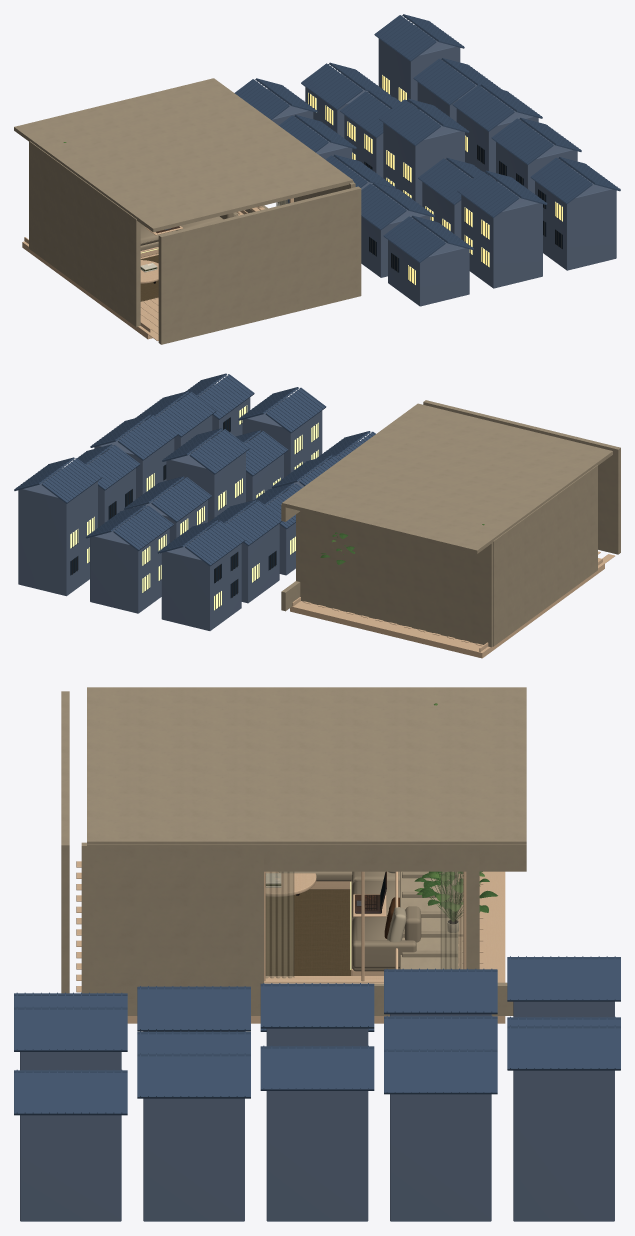
File: sofa-lounge.glb
3 views of the same model, one above another, from view 1: azimuth 30°, elevation 25°; view 2: azimuth 150°, elevation 25°; view 3: azimuth 270°, elevation 25° (orthographic). The views are drawn at different scales.
Visible parts, largest first — view 1: Baked lounge interior, Exterior Night stucco, Exterior Charcoal roof tiles, Exterior Neighbour window glow, Exterior Graphite metal, Exterior Unlit windows; view 2: Baked lounge interior, Exterior Night stucco, Exterior Charcoal roof tiles, Exterior Neighbour window glow, Exterior Graphite metal, Exterior Unlit windows; view 3: Baked lounge interior, Exterior Night stucco, Exterior Charcoal roof tiles, CurtainLeft, CurtainRight.
Part boxes in pixels (box(x1,y1,x2,y2)): Baked lounge interior: box(14, 78, 361, 344); Exterior Night stucco: box(268, 25, 616, 306); Exterior Charcoal roof tiles: box(234, 14, 620, 262); Exterior Neighbour window glow: box(308, 75, 562, 284); Exterior Graphite metal: box(309, 75, 561, 284); Exterior Unlit windows: box(364, 144, 562, 272); Baked lounge interior: box(281, 400, 620, 658); Exterior Night stucco: box(18, 384, 358, 630); Exterior Charcoal roof tiles: box(14, 373, 375, 566); Exterior Neighbour window glow: box(70, 405, 318, 610); Exterior Graphite metal: box(72, 405, 318, 609); Exterior Unlit windows: box(70, 417, 276, 597); Baked lounge interior: box(61, 687, 526, 1023); Exterior Night stucco: box(20, 1001, 614, 1221); Exterior Charcoal roof tiles: box(14, 956, 620, 1115); CurtainLeft: box(265, 871, 294, 978); CurtainRight: box(440, 871, 463, 969).
Bounding box in the file's own units: 15.16 × 3.99 × 11.32.
37 materials, 16 textured.
